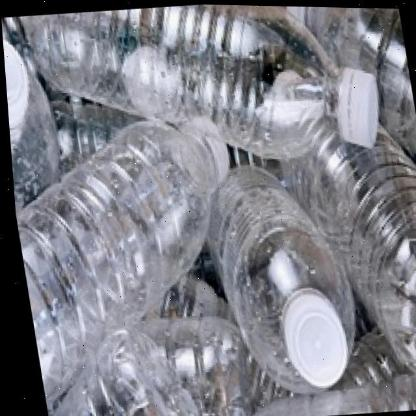Plastic Bottle: (71, 16, 378, 160), (36, 118, 234, 336), (208, 167, 354, 393)
